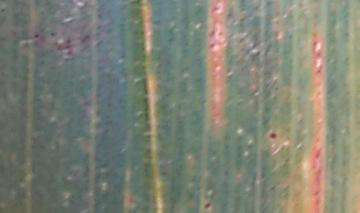tarspot: (55, 37, 75, 57), (79, 34, 91, 44), (202, 200, 212, 211), (211, 5, 223, 14), (314, 145, 322, 158), (267, 131, 279, 139), (311, 189, 321, 197), (269, 183, 277, 192), (207, 41, 216, 49), (32, 33, 42, 39), (49, 30, 57, 37), (216, 30, 223, 38)
